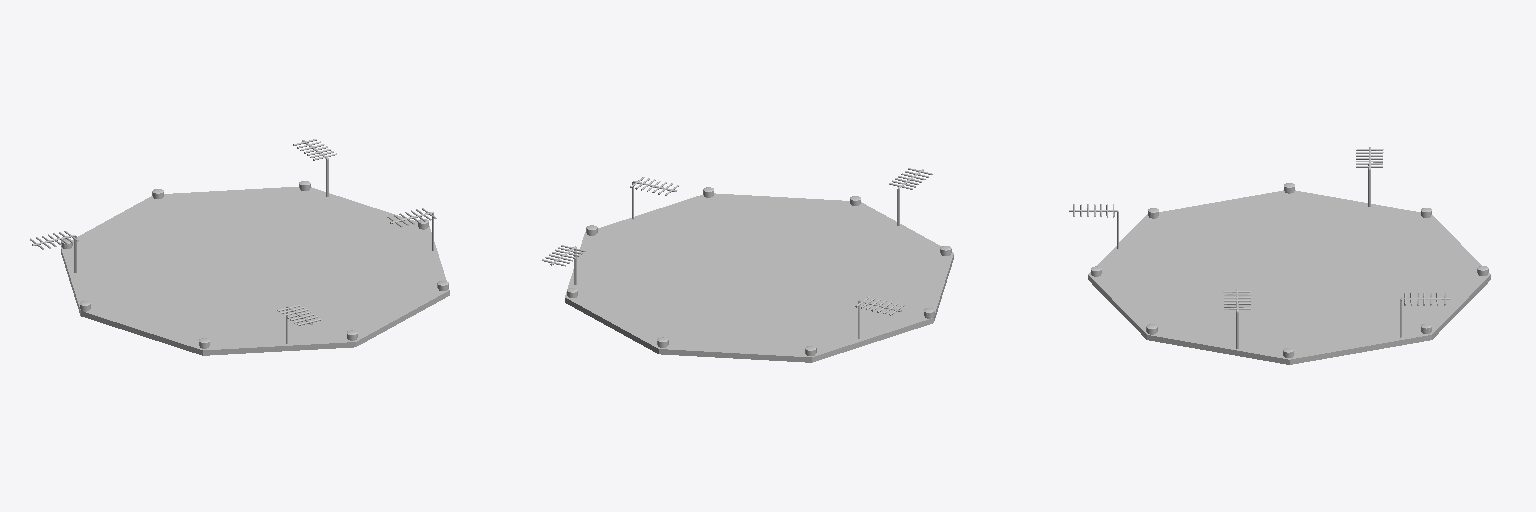
File: launchpad.obj
3 views of the same model, side by side, from view 1: azimuth 30°, elevation 25°; view 2: azimuth 150°, elevation 25°; view 3: azimuth 270°, elevation 25° (orthographic).
Parts seen in each view (by area): view 1: Cylinder; view 2: Cylinder; view 3: Cylinder.
Part boxes in pixels (bbox=[...]): Cylinder: bbox=[30, 139, 449, 355]; Cylinder: bbox=[542, 168, 953, 362]; Cylinder: bbox=[1069, 147, 1490, 364].
Size of the model in its own units: 0.755 by 0.0894 by 0.7735.